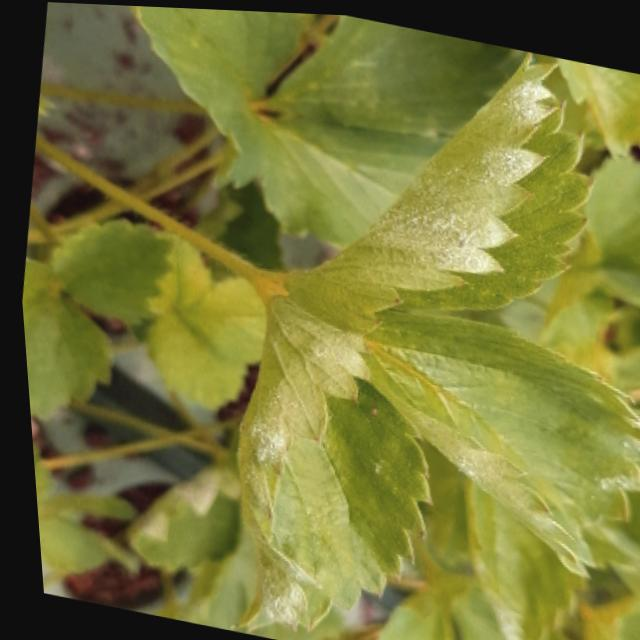Powdery Mildew Leaf: (273, 47, 593, 333), (349, 305, 640, 576), (227, 291, 423, 632), (455, 477, 577, 640)
